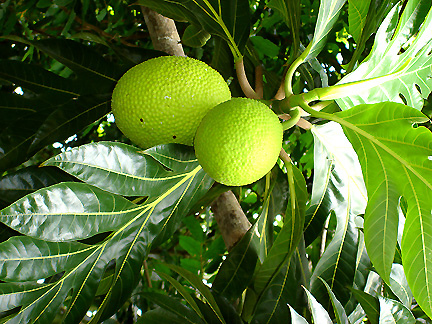jackfruit: (110, 54, 233, 150), (196, 97, 284, 188)
